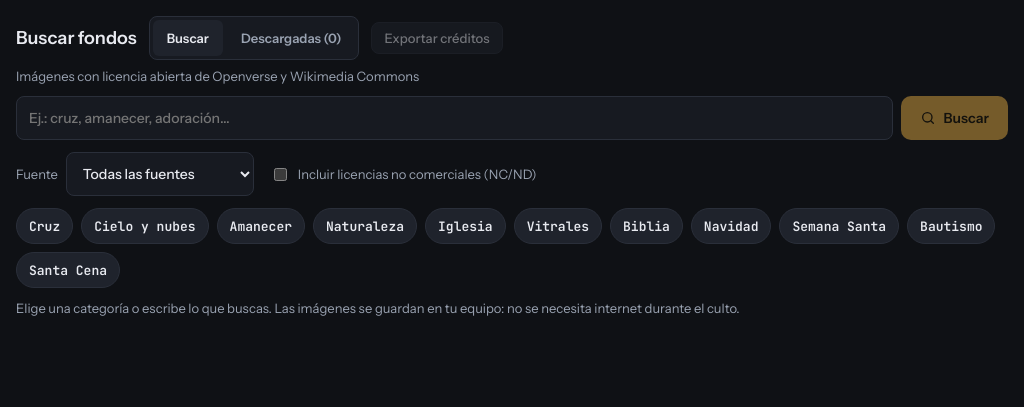
Test: ImageSearchPanel › reports rate limiting per source
In the search field named "Buscar imágenes": (454, 118) [16,96,893,140], type "cruz"
Then press Enter
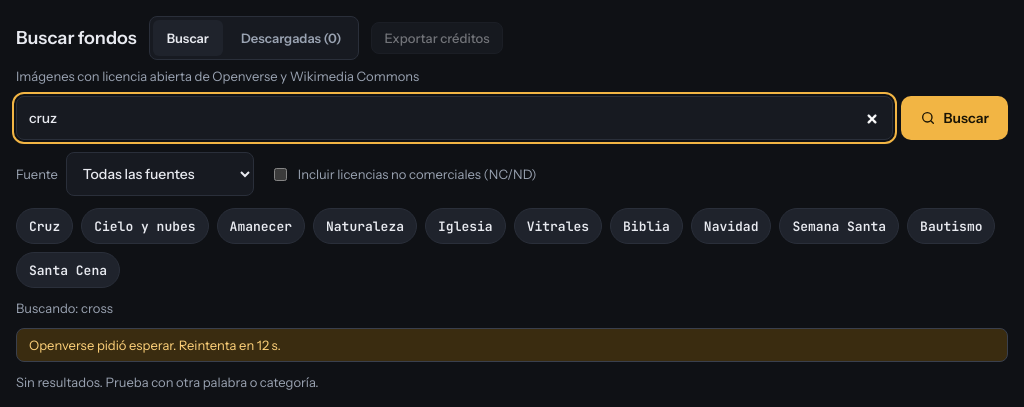
Check: the text "Openverse pidió esperar. Reintenta en 12 s." is shown, box [16,328,1008,362]
